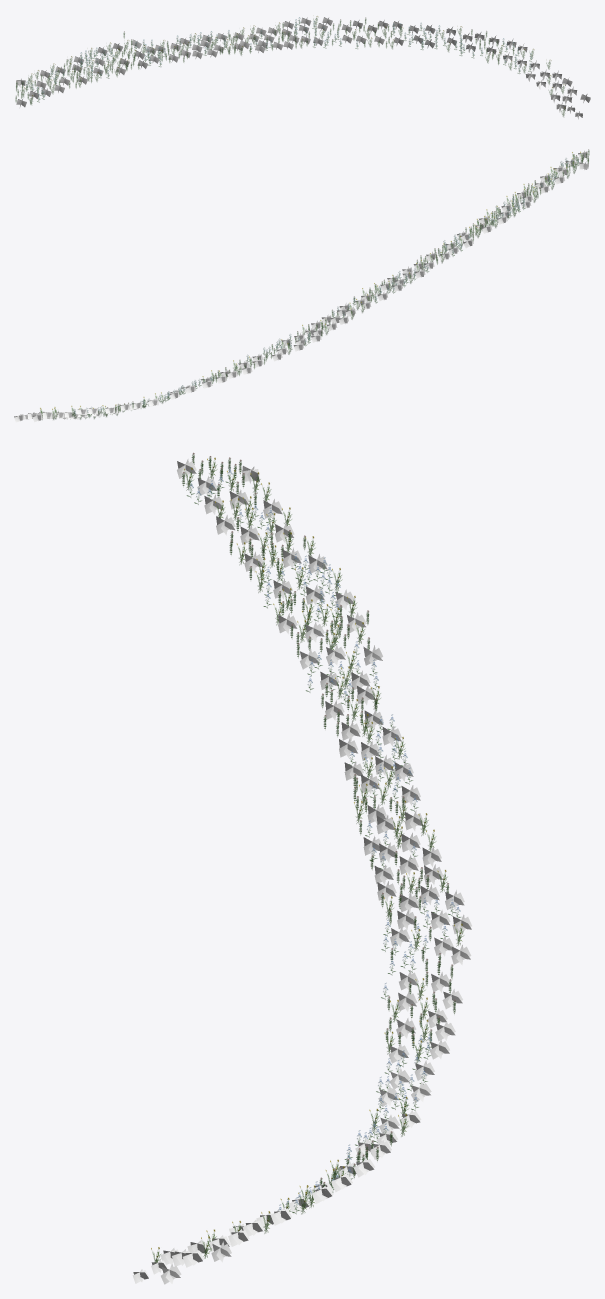
Rendered from grass_flowers_b.glb.
3 views of the same model, one above another, from view 1: azimuth 30°, elevation 25°; view 2: azimuth 210°, elevation 25°; view 3: azimuth 270°, elevation 25° (orthographic). The views are drawn at different scales.
Visible parts, largest first — view 1: stk_grassAlpha.png__, BlackEyedSusan.png__, Flower3.png__, Flower5.png__, Flower3F.png__; view 2: stk_grassAlpha.png__, BlackEyedSusan.png__, Flower3.png__, Flower5.png__; view 3: stk_grassAlpha.png__, BlackEyedSusan.png__, Flower5.png__, Flower3.png__, Flower3F.png__.
Boxes of the visible parts, box(x1,y1,x2,y2) form: stk_grassAlpha.png__: box(16, 17, 590, 119); BlackEyedSusan.png__: box(20, 16, 565, 116); Flower3.png__: box(26, 19, 531, 102); Flower5.png__: box(15, 18, 514, 104); Flower3F.png__: box(26, 17, 531, 98); stk_grassAlpha.png__: box(14, 150, 588, 422); BlackEyedSusan.png__: box(40, 151, 583, 419); Flower3.png__: box(73, 158, 578, 418); Flower5.png__: box(91, 149, 589, 415); stk_grassAlpha.png__: box(132, 459, 471, 1284); BlackEyedSusan.png__: box(151, 457, 463, 1262); Flower5.png__: box(182, 453, 455, 1186); Flower3.png__: box(186, 472, 461, 1214); Flower3F.png__: box(190, 467, 460, 1209).
Bounding box in the file's own units: 143 × 36.59 × 37.05.
Materials: 6 (5 with a texture image).
